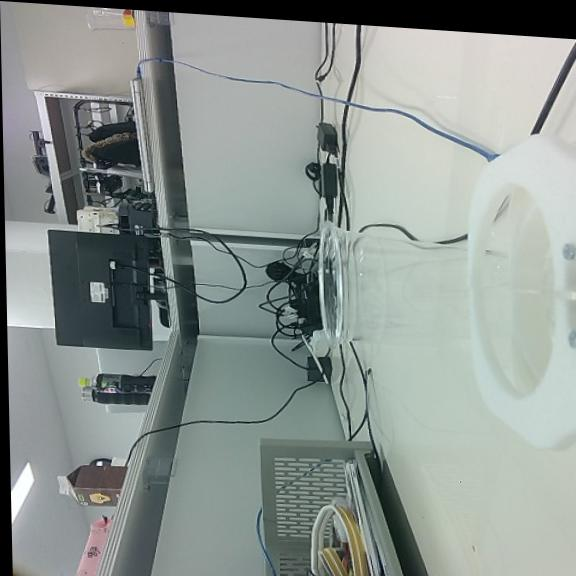Plastik: (320, 222, 469, 343)
